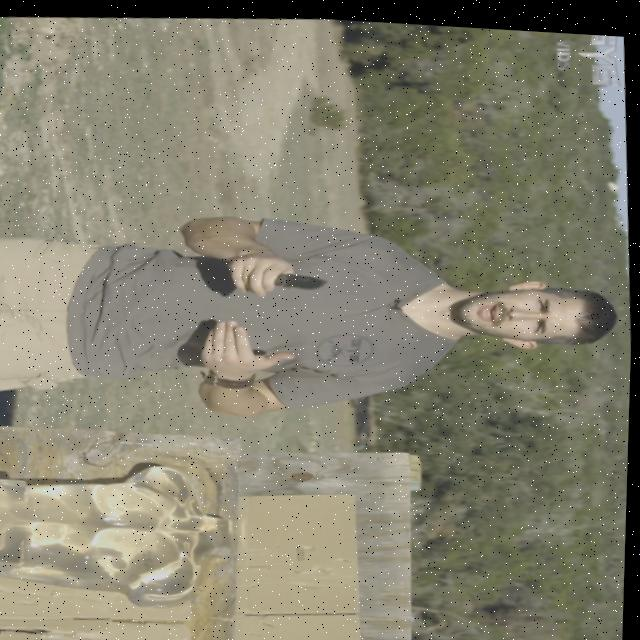knife: (275, 266, 330, 289)
